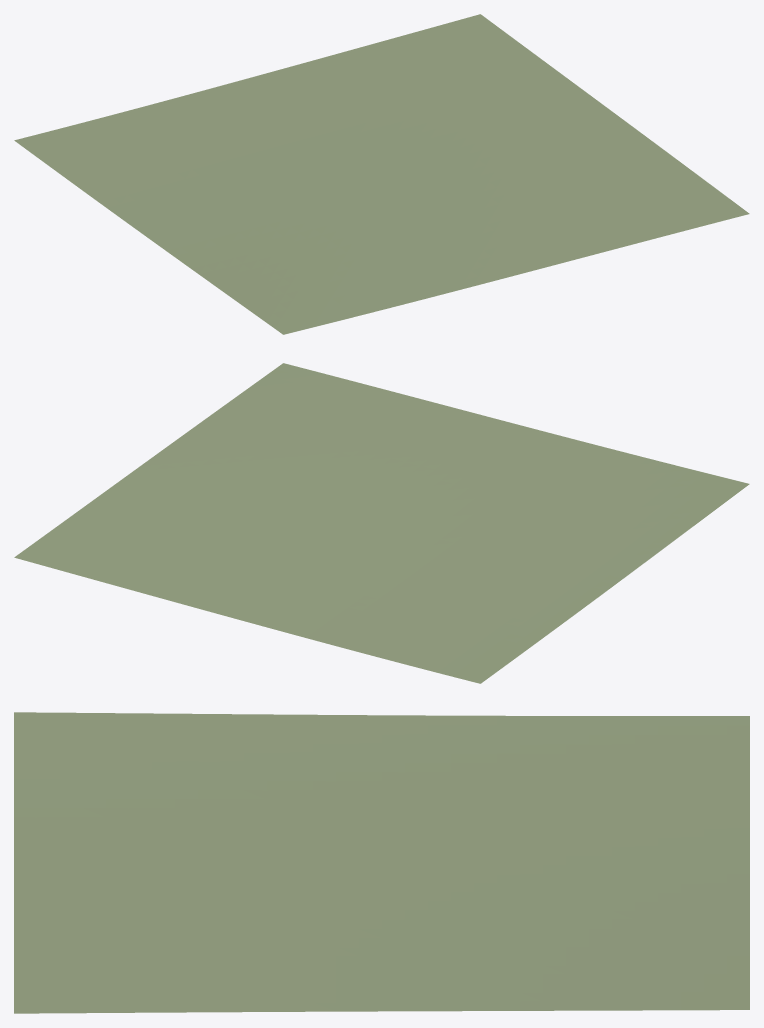
Rendered from desert-19-8.glb.
3 renders of one model, top to bottom at view 1: azimuth 30°, elevation 25°; view 2: azimuth 150°, elevation 25°; view 3: azimuth 270°, elevation 25°, orthographic. The views are drawn at different scales.
Visible parts, largest first — view 1: desert-19-8; view 2: desert-19-8; view 3: desert-19-8.
Part boxes in pixels (x1,y1,x2,y2): desert-19-8: (14, 14, 749, 334); desert-19-8: (14, 363, 749, 683); desert-19-8: (14, 712, 749, 1013).
Bounding box in the file's own units: 512 × 13.12 × 512.
